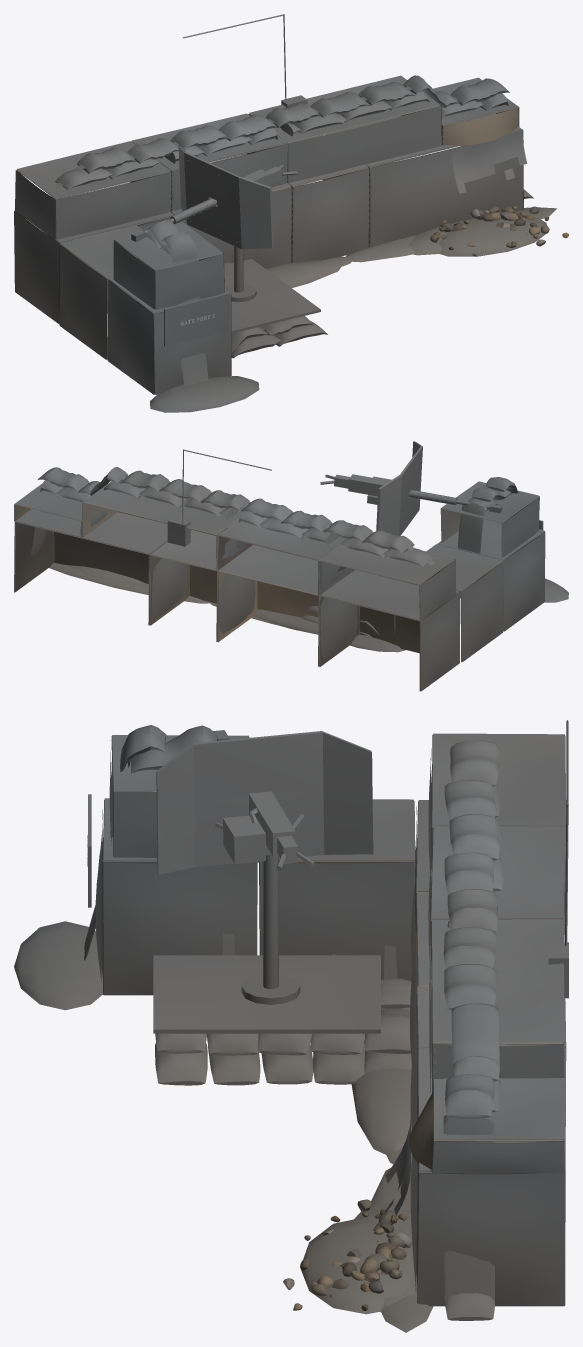
File: WL_GateBastionS_LOD0.glb
3 views of the same model, one above another, from view 1: azimuth 30°, elevation 25°; view 2: azimuth 150°, elevation 25°; view 3: azimuth 270°, elevation 25° (orthographic). The views are drawn at different scales.
Visible parts, largest first — view 1: WL_GateBastionS_Wire_LOD0, WL_GateBastionS_Canvas_LOD0, WL_GateBastionS_Metal_LOD0, WL_GateBastionS_Sand_LOD0, WL_GateBastionS_Masonry_LOD0, WL_GateBastionS_Hardware_LOD0, WL_GateBastionS_Rubble_LOD0; view 2: WL_GateBastionS_Wire_LOD0, WL_GateBastionS_Masonry_LOD0, WL_GateBastionS_Canvas_LOD0, WL_GateBastionS_Metal_LOD0, WL_GateBastionS_Sand_LOD0, WL_GateBastionS_Hardware_LOD0; view 3: WL_GateBastionS_Wire_LOD0, WL_GateBastionS_Metal_LOD0, WL_GateBastionS_Canvas_LOD0, WL_GateBastionS_Sand_LOD0, WL_GateBastionS_Masonry_LOD0, WL_GateBastionS_Hardware_LOD0, WL_GateBastionS_Rubble_LOD0.
Boxes of the visible parts, x1,y1,x2,y2 form: WL_GateBastionS_Wire_LOD0: (14, 75, 527, 394); WL_GateBastionS_Canvas_LOD0: (55, 75, 533, 386); WL_GateBastionS_Metal_LOD0: (131, 14, 320, 346); WL_GateBastionS_Sand_LOD0: (150, 207, 556, 412); WL_GateBastionS_Masonry_LOD0: (15, 105, 521, 394); WL_GateBastionS_Hardware_LOD0: (14, 105, 522, 394); WL_GateBastionS_Rubble_LOD0: (430, 205, 568, 256); WL_GateBastionS_Wire_LOD0: (14, 481, 545, 691); WL_GateBastionS_Masonry_LOD0: (15, 496, 543, 690); WL_GateBastionS_Canvas_LOD0: (31, 467, 522, 637); WL_GateBastionS_Metal_LOD0: (167, 441, 543, 546); WL_GateBastionS_Sand_LOD0: (49, 563, 568, 652); WL_GateBastionS_Hardware_LOD0: (14, 453, 544, 691); WL_GateBastionS_Wire_LOD0: (95, 733, 566, 1306); WL_GateBastionS_Metal_LOD0: (88, 720, 568, 1033); WL_GateBastionS_Canvas_LOD0: (84, 725, 503, 1320); WL_GateBastionS_Sand_LOD0: (14, 921, 433, 1332); WL_GateBastionS_Masonry_LOD0: (101, 762, 564, 1283); WL_GateBastionS_Hardware_LOD0: (102, 735, 566, 1305); WL_GateBastionS_Rubble_LOD0: (283, 1199, 412, 1310).
Bounding box in the file's own units: 6.6 × 2.65 × 3.78.
